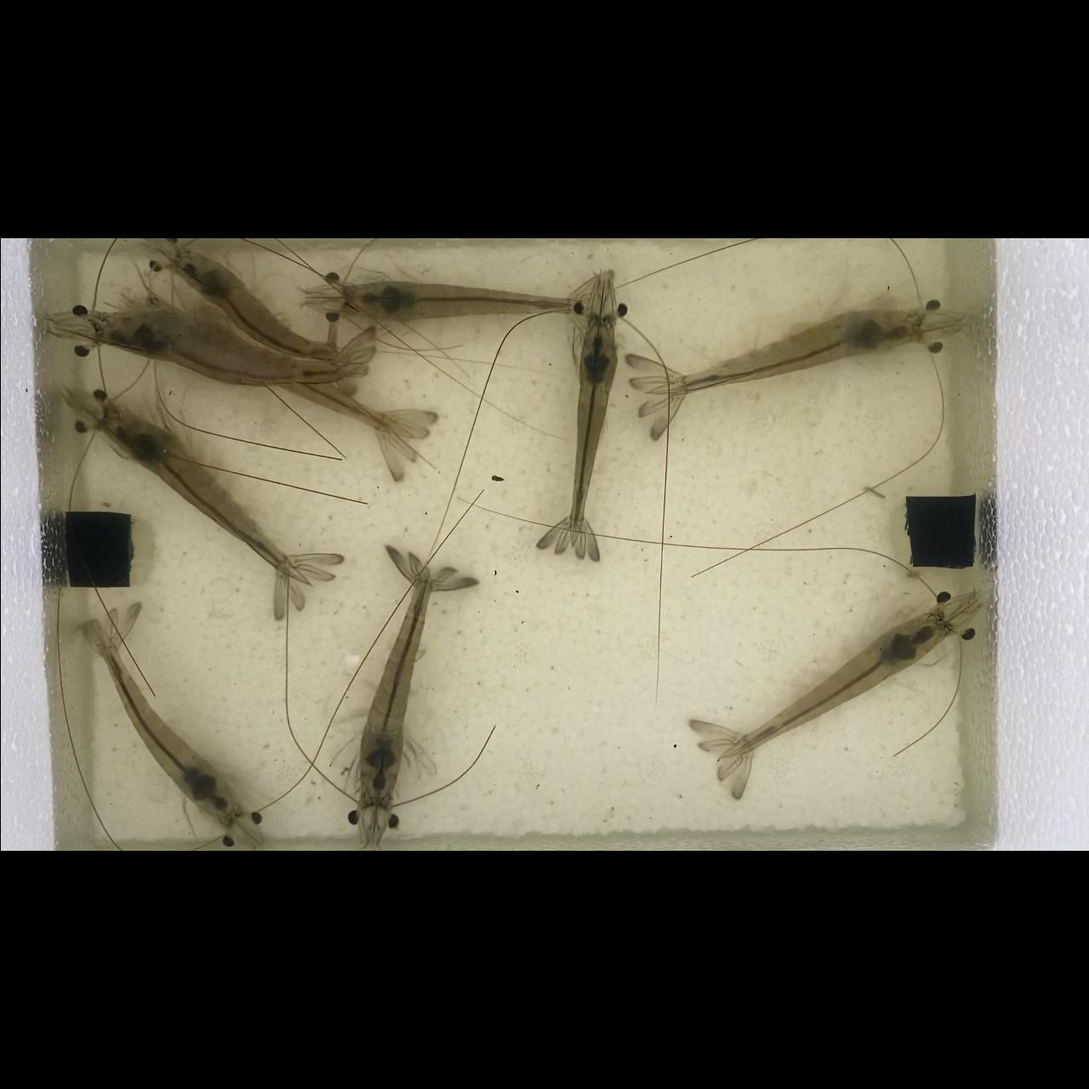box: (905, 495, 975, 568), (65, 511, 132, 586)
top_shrimp: (97, 405, 312, 587), (715, 615, 945, 760), (94, 619, 241, 831), (168, 312, 410, 436), (172, 249, 364, 372), (645, 310, 928, 393), (94, 311, 359, 386), (360, 564, 432, 805), (570, 322, 616, 548), (345, 284, 594, 318)
